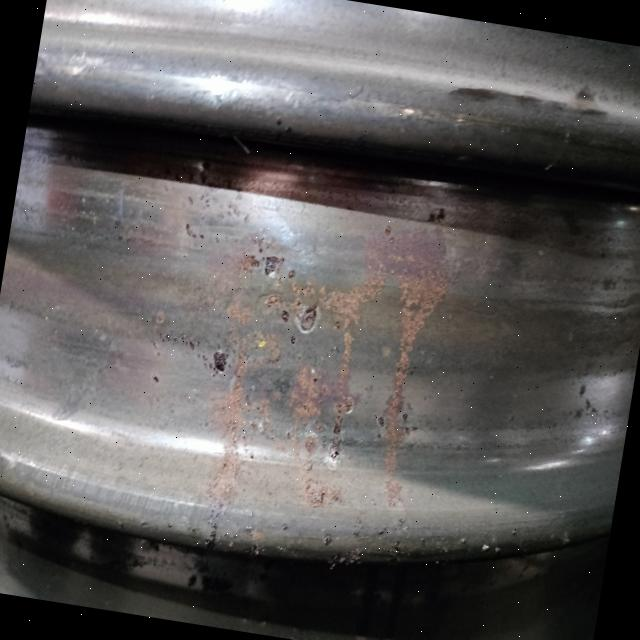Blue hole: (246, 237, 300, 300), (285, 302, 338, 351), (185, 445, 187, 447)
